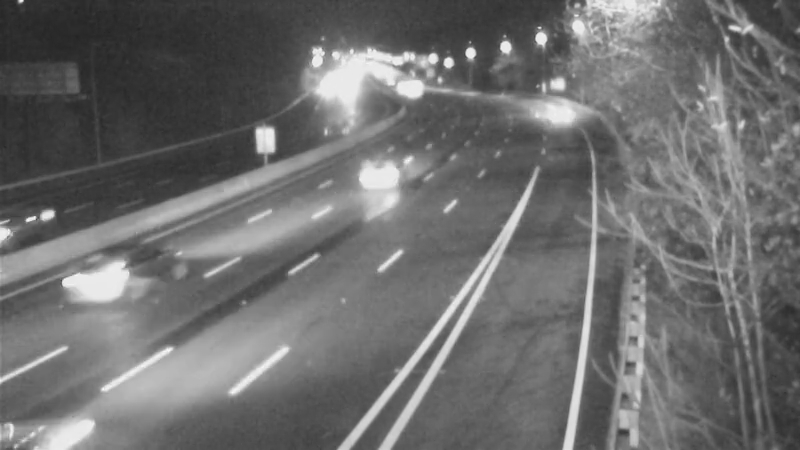vehicle: (333, 135, 413, 215), (59, 245, 139, 325), (1, 186, 71, 266), (534, 85, 584, 135)
